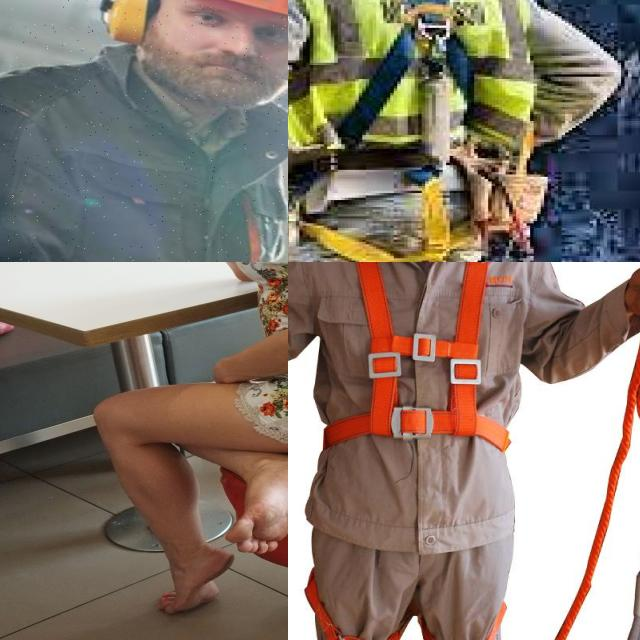Barefoots: (225, 456, 288, 553), (157, 544, 235, 614)
Ear-protection: (97, 0, 154, 35)
Harness: (324, 262, 514, 522), (566, 274, 640, 640), (338, 0, 474, 146)
No_Glasses: (169, 0, 232, 42), (246, 11, 288, 55)
